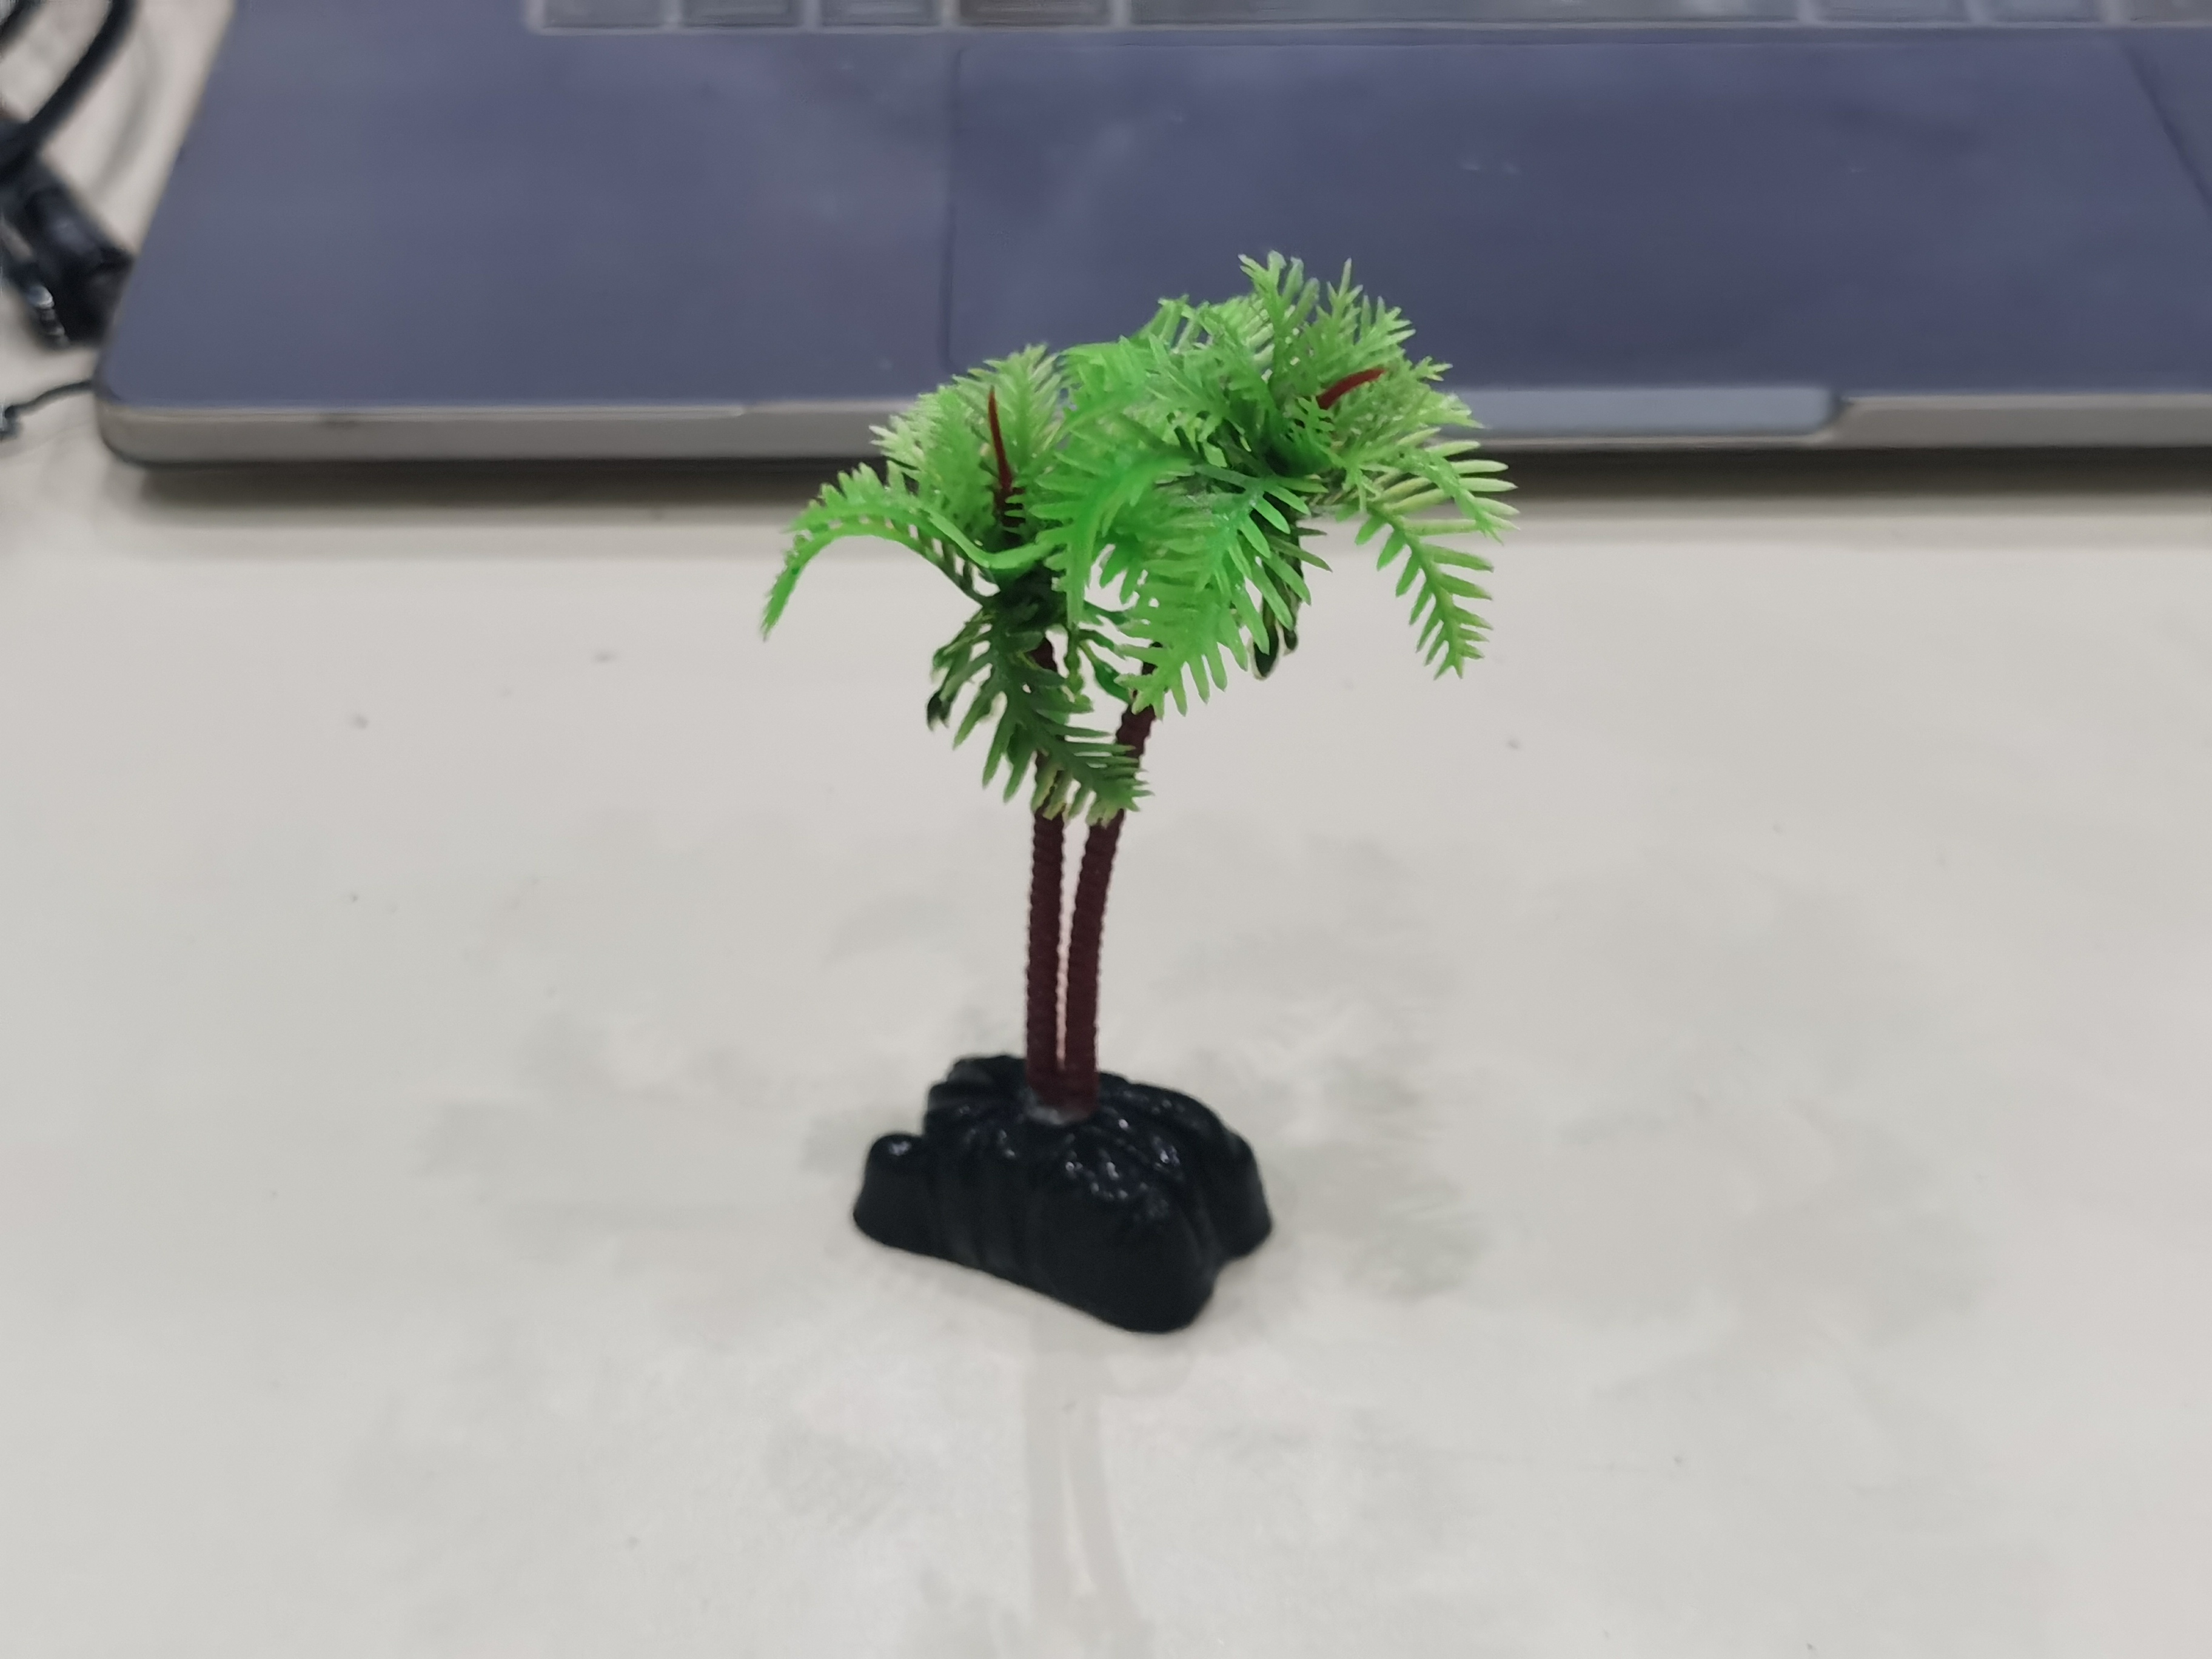corn: (754, 244, 1522, 1335)
